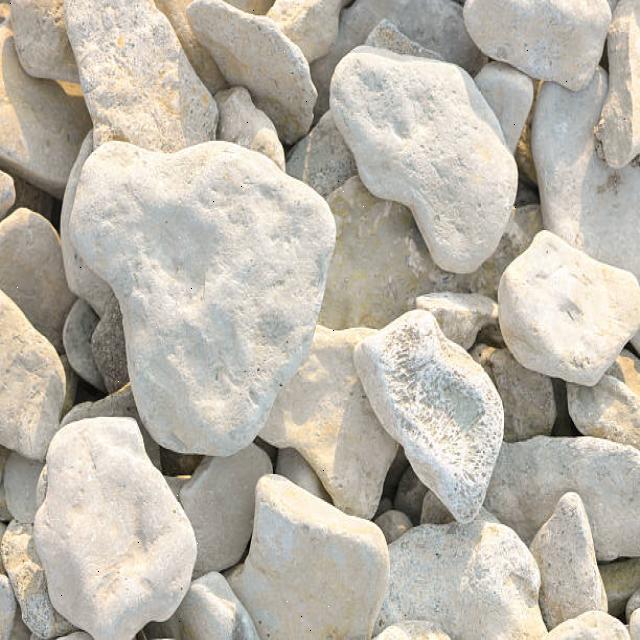Sedimentary: (68, 127, 338, 471), (321, 32, 539, 280), (352, 296, 534, 528), (35, 418, 202, 633), (493, 223, 640, 400), (62, 2, 222, 154), (239, 478, 387, 640), (536, 72, 640, 278), (478, 421, 638, 554), (388, 514, 545, 640), (199, 2, 318, 132), (530, 481, 626, 627), (454, 1, 606, 90), (1, 289, 70, 463)
